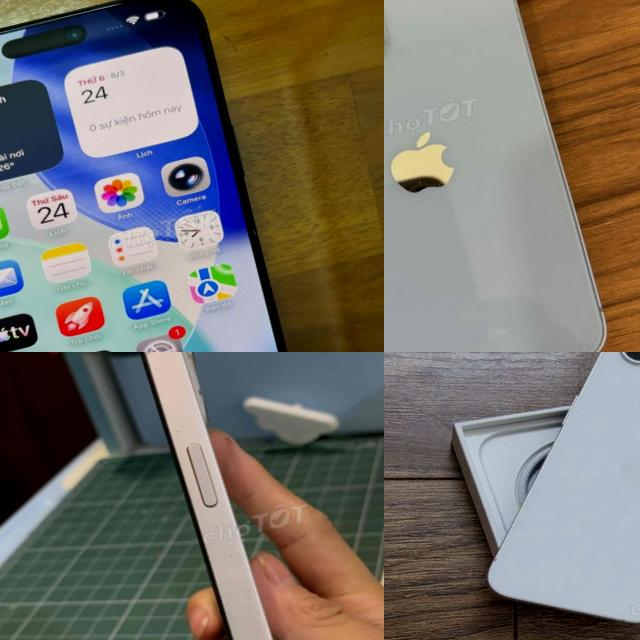gen_12_13: (123, 352, 333, 640)
gen_14: (384, 0, 626, 352)
gen_16: (487, 352, 640, 622)
gen_17: (0, 0, 287, 352)
